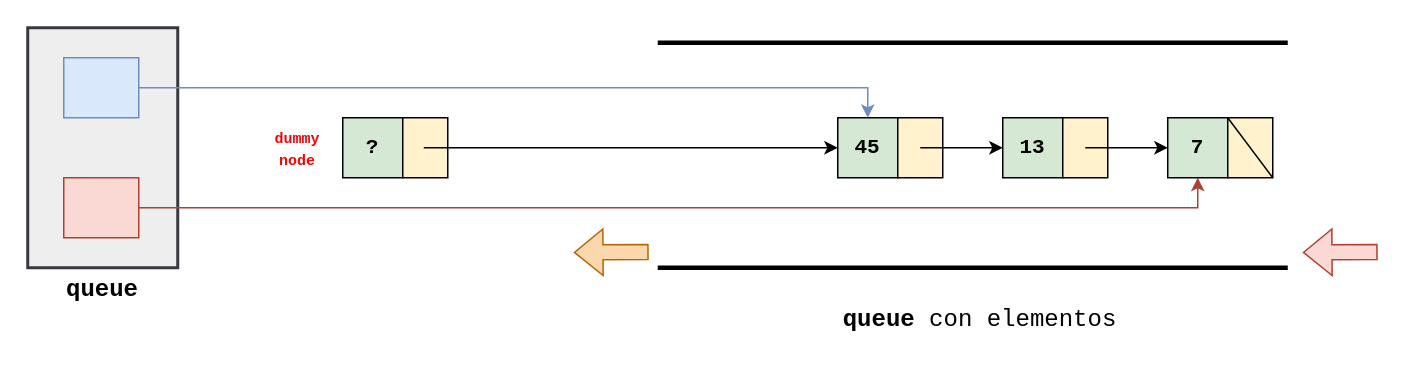
This 1404x368 diagram has some shape labels left out. Each missing label, with the box of its shape:
head: (62, 56, 139, 118)
tail: (62, 176, 139, 238)
